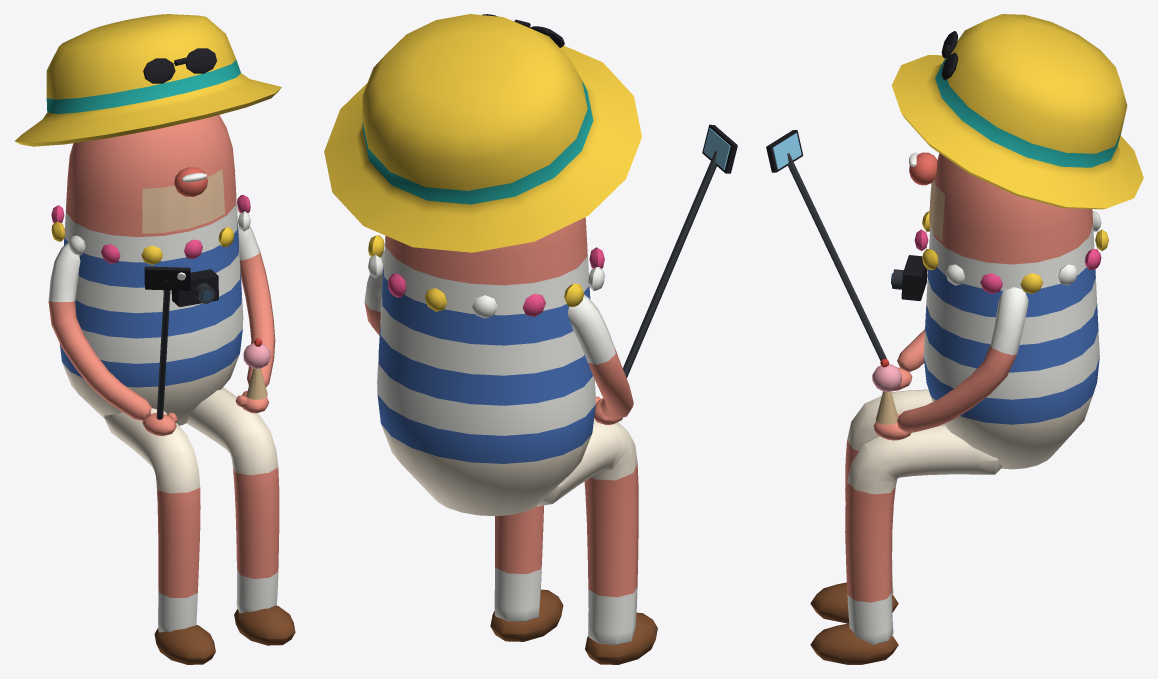
File: VivoTurista.fbx
3 views of the same model, side by side, from view 1: azimuth 30°, elevation 25°; view 2: azimuth 150°, elevation 25°; view 3: azimuth 270°, elevation 25° (orthographic). The views are drawn at different scales.
Parts seen in each view (by area): view 1: Cuerpo, PiernaIzq, PiernaDer, BrazoDer, BrazoIzq, Boca; view 2: Cuerpo, PiernaDer, BrazoDer, PiernaIzq, BrazoIzq; view 3: Cuerpo, PiernaIzq, BrazoIzq, BrazoDer, PiernaDer, Boca.
Part boxes in pixels (x1,y1,x2,y2): Cuerpo: [14, 14, 281, 425]; PiernaIzq: [186, 387, 295, 645]; PiernaDer: [104, 408, 215, 664]; BrazoDer: [48, 242, 190, 436]; BrazoIzq: [235, 208, 275, 413]; Boca: [142, 169, 224, 233]; Cuerpo: [324, 14, 641, 516]; PiernaDer: [536, 418, 657, 664]; BrazoDer: [567, 124, 737, 424]; PiernaIzq: [490, 505, 563, 641]; BrazoIzq: [364, 251, 384, 335]; Cuerpo: [891, 14, 1143, 469]; PiernaIzq: [810, 425, 1002, 664]; BrazoIzq: [872, 287, 1028, 440]; BrazoDer: [766, 130, 924, 391]; PiernaDer: [810, 389, 942, 623]; Boca: [929, 179, 944, 241].
Bounding box in the file's own units: 2.4 × 5.44 × 3.07.
2 materials, 1 textured.
